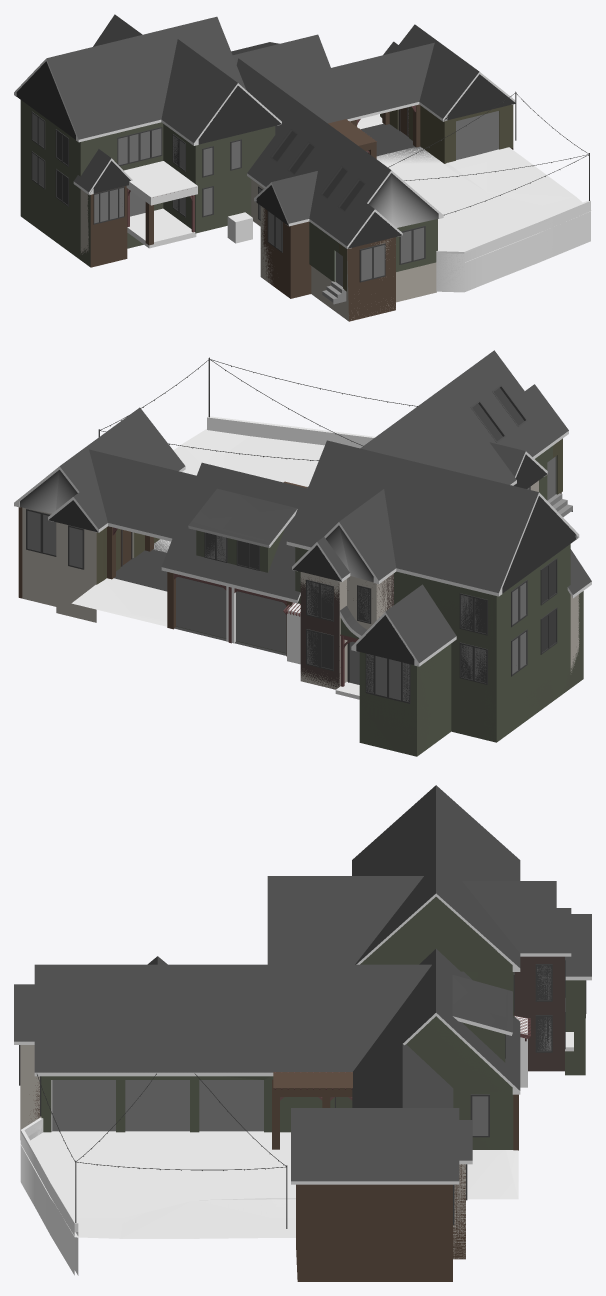
The model's file is West_Coast_House_Project.dae.
3 renders of one model, top to bottom at view 1: azimuth 30°, elevation 25°; view 2: azimuth 150°, elevation 25°; view 3: azimuth 270°, elevation 25°, orthographic. The views are drawn at different scales.
Visible parts, largest first — view 1: punisher_west_coast_house_01_a400, punisher_west_coast_house_01_a100, colmesh-1; view 2: punisher_west_coast_house_01_a400, punisher_west_coast_house_01_a100, colmesh-1; view 3: punisher_west_coast_house_01_a400, punisher_west_coast_house_01_a100, colmesh-1.
Boxes of the visible parts, x1,y1,x2,y2 form: punisher_west_coast_house_01_a400: [14, 14, 591, 321]; punisher_west_coast_house_01_a100: [32, 107, 590, 321]; colmesh-1: [16, 61, 588, 321]; punisher_west_coast_house_01_a400: [14, 350, 591, 755]; punisher_west_coast_house_01_a100: [27, 387, 583, 756]; colmesh-1: [18, 416, 577, 695]; punisher_west_coast_house_01_a400: [14, 785, 591, 1258]; punisher_west_coast_house_01_a100: [20, 956, 585, 1275]; colmesh-1: [21, 897, 573, 1281].
Size of the model in its own units: 29.27 by 27.24 by 12.23.
